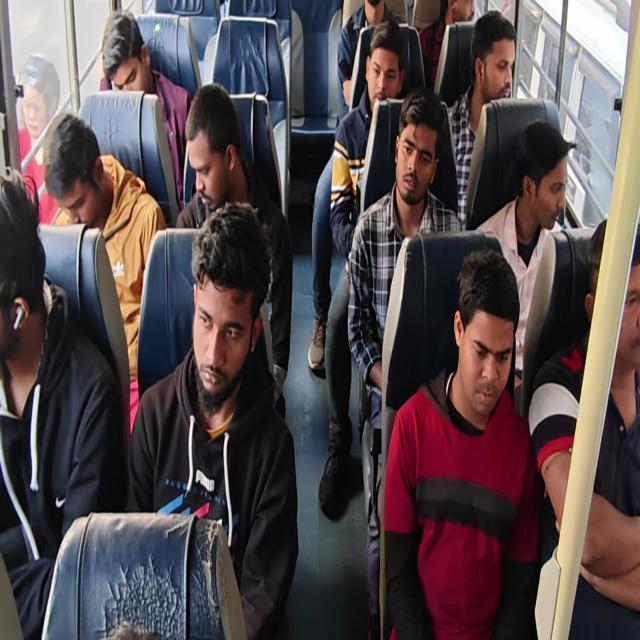person: (444, 266, 512, 414), (191, 239, 254, 396), (584, 240, 640, 382), (47, 126, 110, 241), (174, 94, 237, 206), (0, 193, 37, 366), (100, 18, 161, 114), (512, 134, 569, 221), (466, 22, 517, 112), (359, 33, 412, 113), (399, 105, 430, 205), (426, 0, 481, 39), (357, 0, 388, 33)
